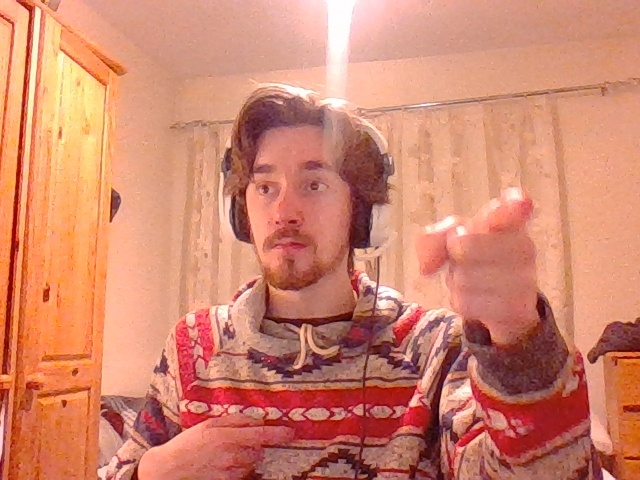you: (414, 190, 540, 328)
